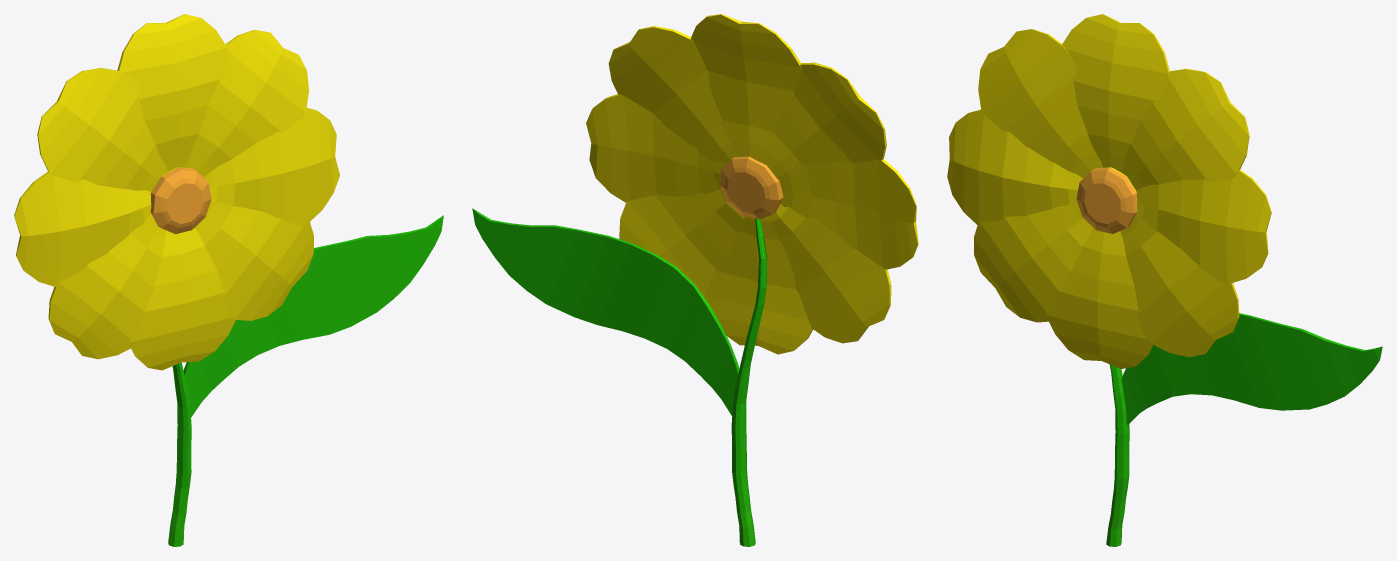
The model's file is Flor-amarela.fbx.
3 views of the same model, side by side, from view 1: azimuth 30°, elevation 25°; view 2: azimuth 150°, elevation 25°; view 3: azimuth 330°, elevation 25° (orthographic). The views are drawn at different scales.
Parts seen in each view (by area): view 1: Cube.008; view 2: Cube.008; view 3: Cube.008.
Part boxes in pixels (x1,y1,x2,y2): Cube.008: (14,14,443,546); Cube.008: (472,14,918,546); Cube.008: (947,14,1382,546).
Bounding box in the file's own units: 360 × 414 × 32.35.
1 material, 1 textured.
